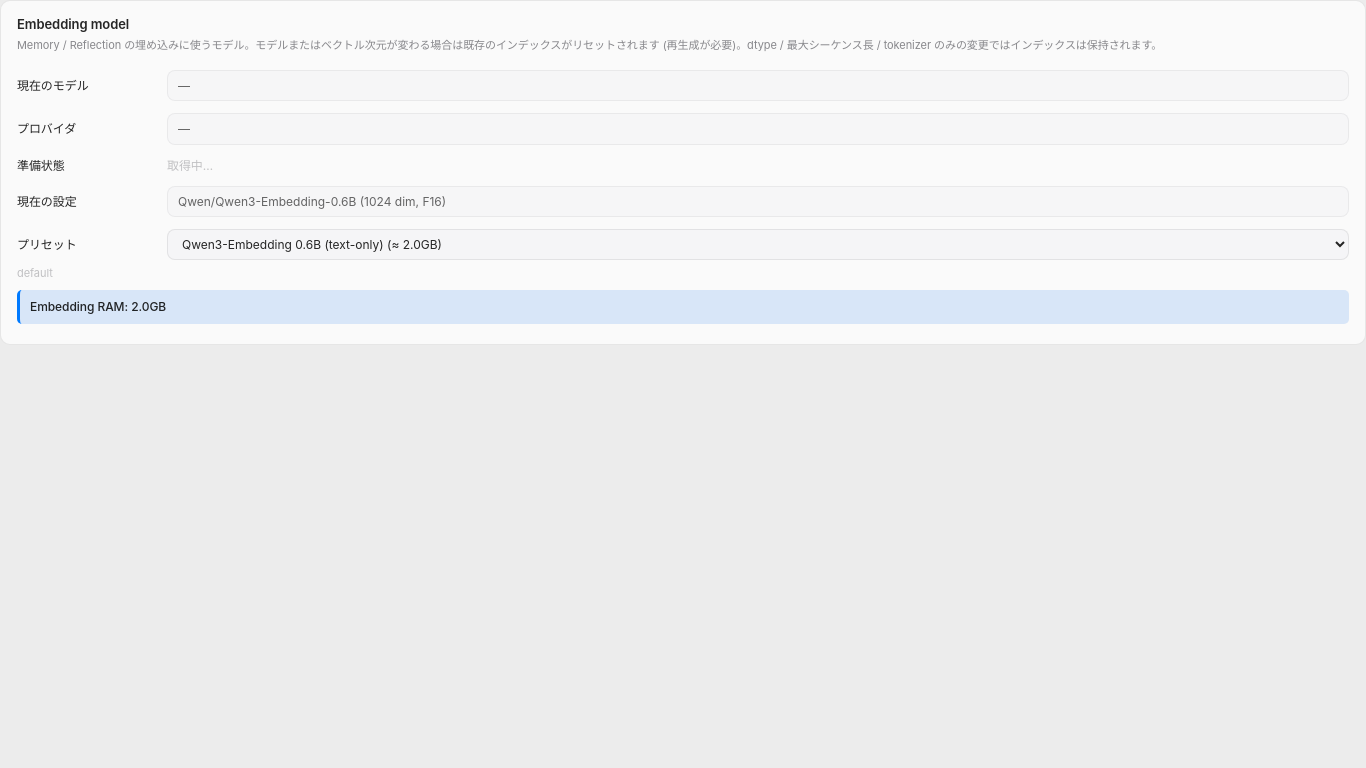
EmbeddingProviderCard › does not show a preset RAM estimate for Custom
The width and height of the screenshot is (1366, 768).
Expected: the text "現在の設定" is shown, [17,194,77,209]
Select "Custom…" in the dropdown at x=758, y=245, box [167,229,1349,260]
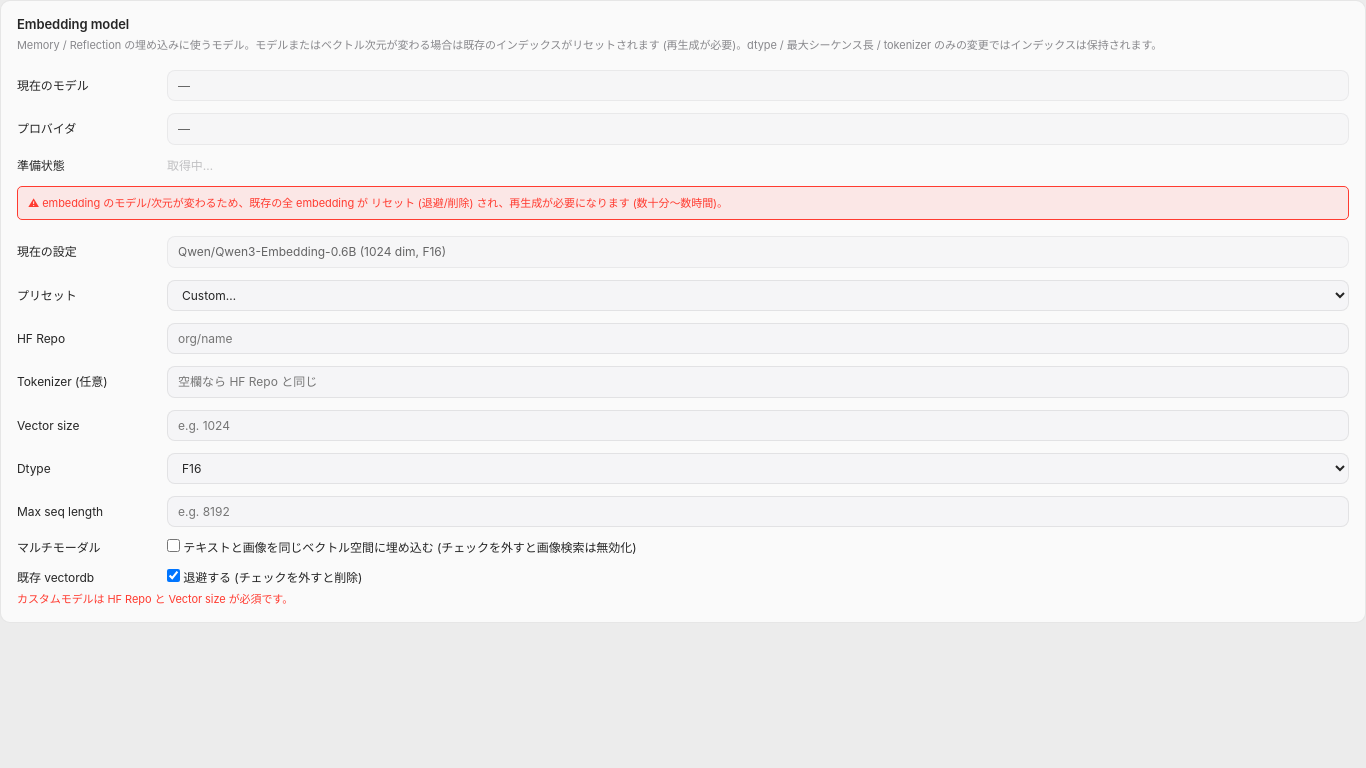
Result: the text "Embedding RAM:" is gone
